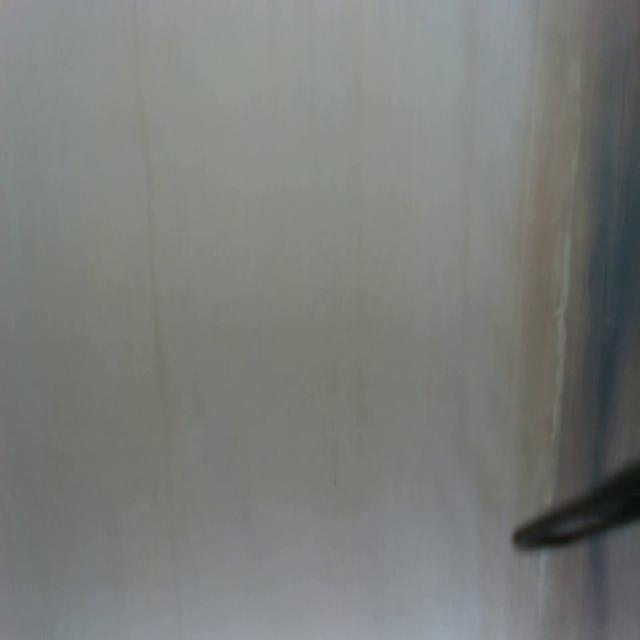color bleeding: (499, 0, 640, 465)
crease: (134, 2, 178, 578)
